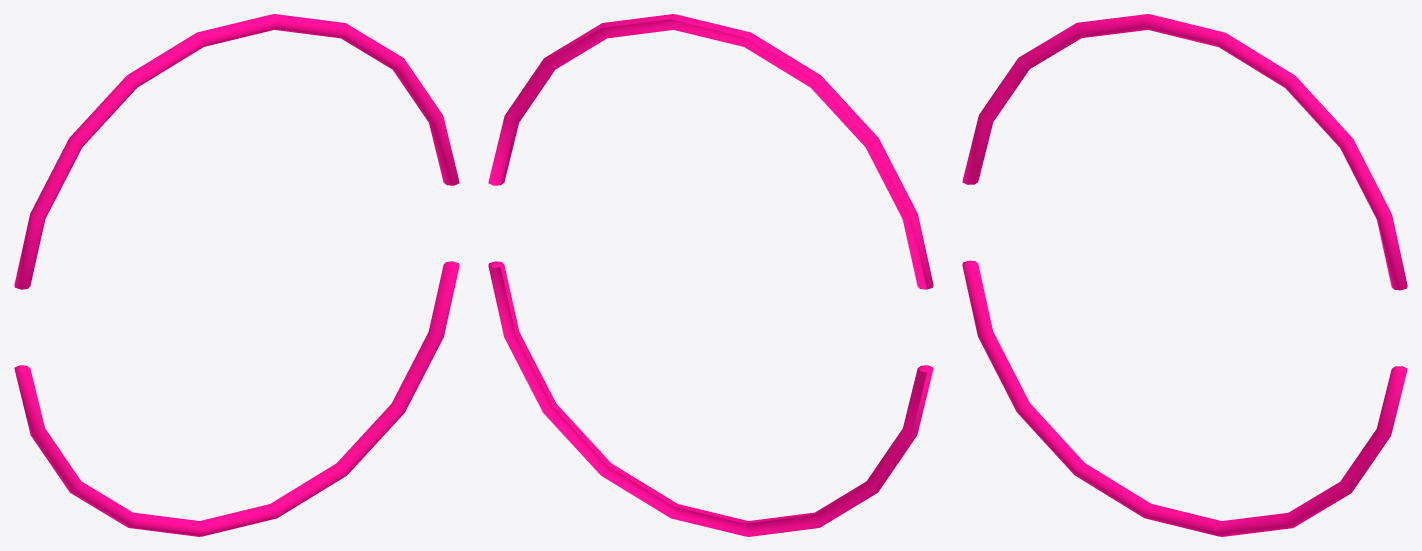
Rendered from Neon_Oval_Sign.glb.
3 views of the same model, side by side, from view 1: azimuth 30°, elevation 25°; view 2: azimuth 150°, elevation 25°; view 3: azimuth 330°, elevation 25° (orthographic).
Visible parts, largest first — view 1: ovalSign; view 2: ovalSign; view 3: ovalSign.
Boxes of the visible parts, <box> form: ovalSign: <box>14,14,459,536</box>; ovalSign: <box>488,14,933,536</box>; ovalSign: <box>962,14,1407,536</box>.
Bounding box in the file's own units: 0.6807 × 0.7393 × 0.0214.
Materials: 1 (1 with a texture image).
